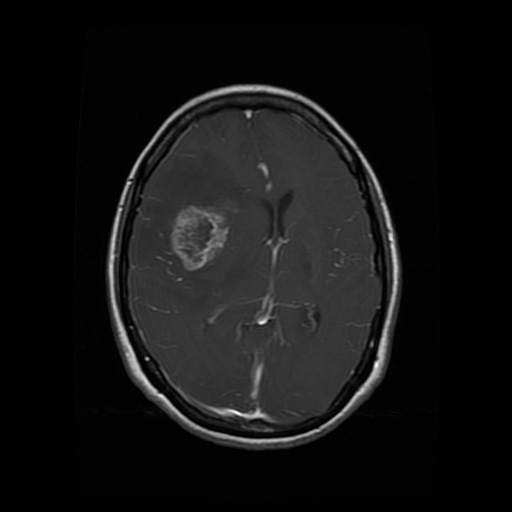glioma: (169, 194, 241, 273)
